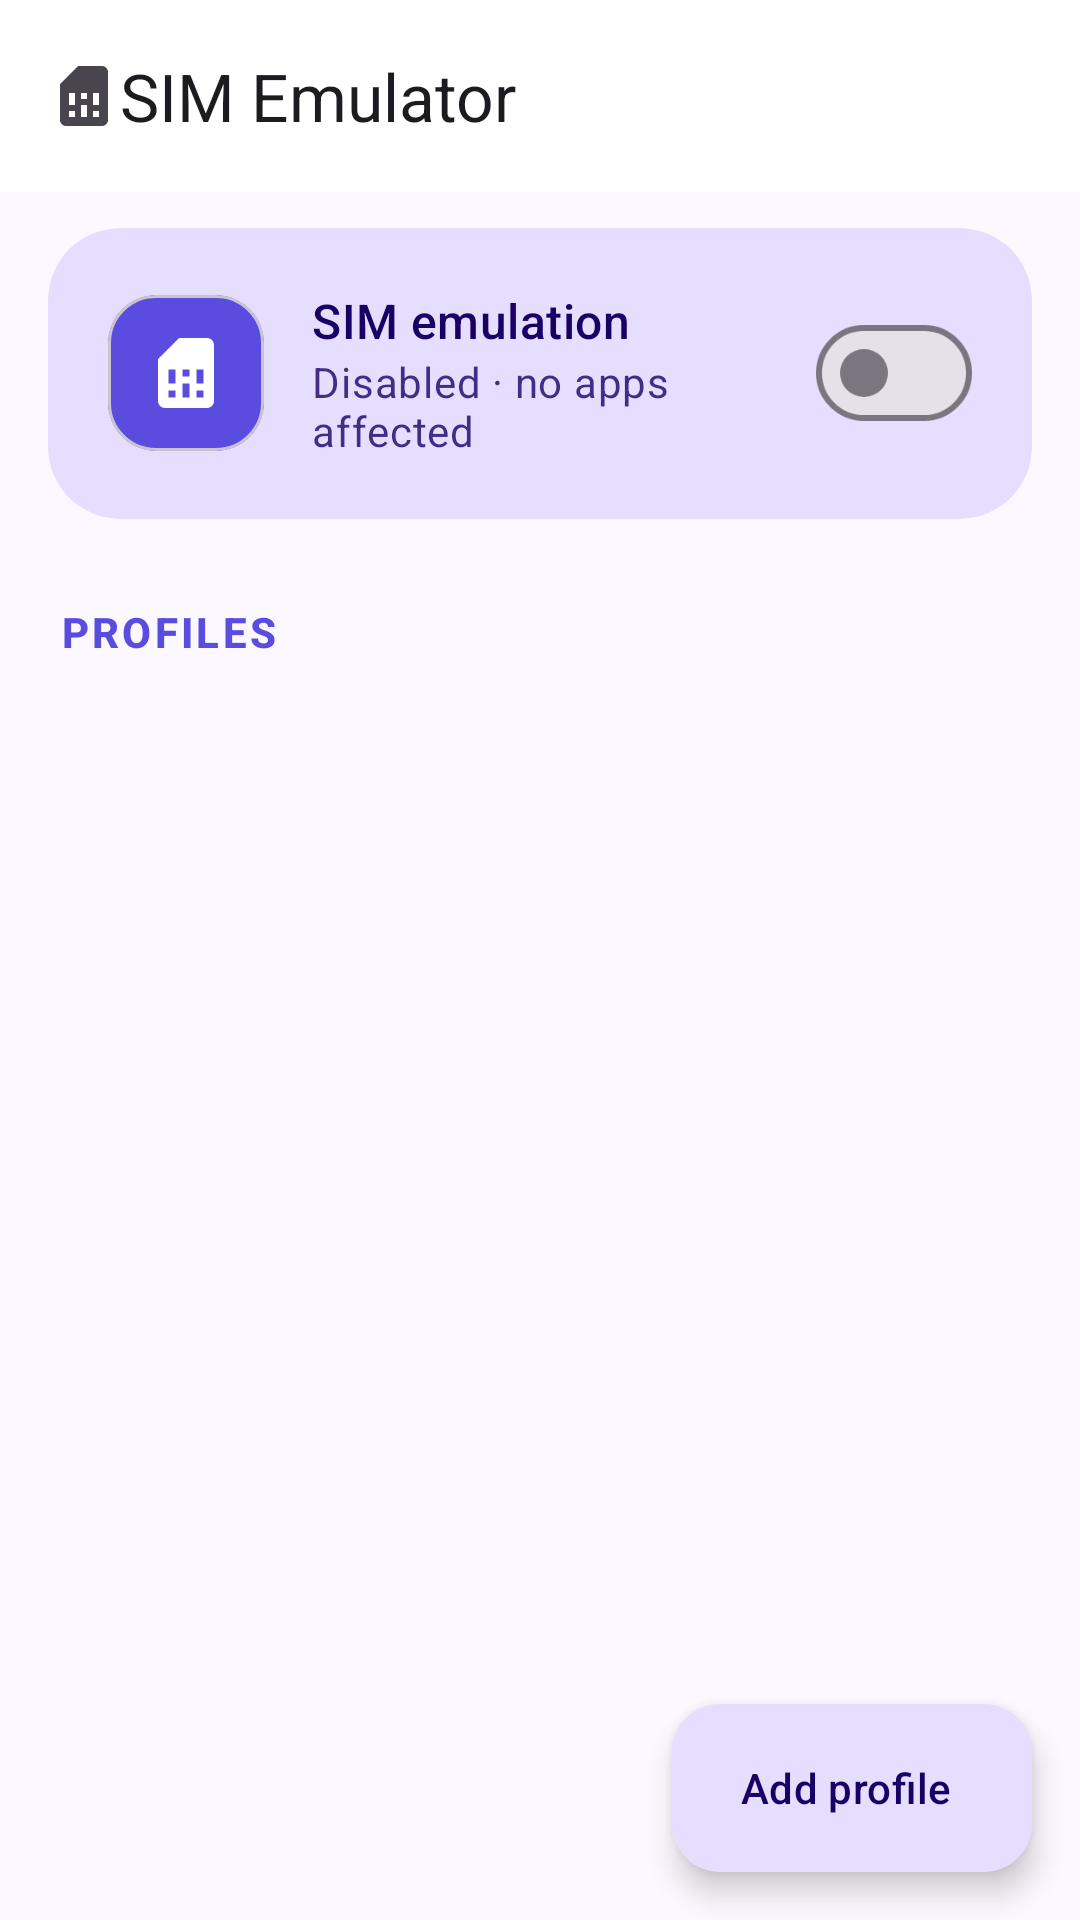

Point at icon controls on the screen. Image size 1080x1920, points as point (x, y).
sim card: point (186, 373)
